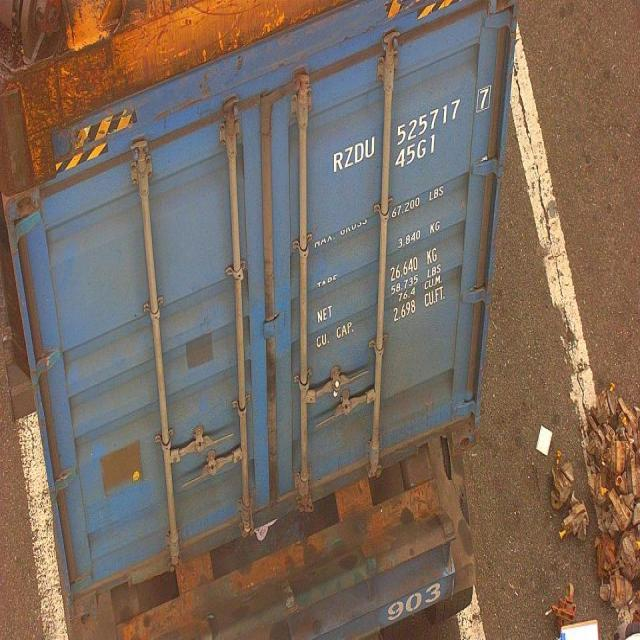ISO: (394, 132, 437, 178)
container_number: (331, 78, 497, 174)
